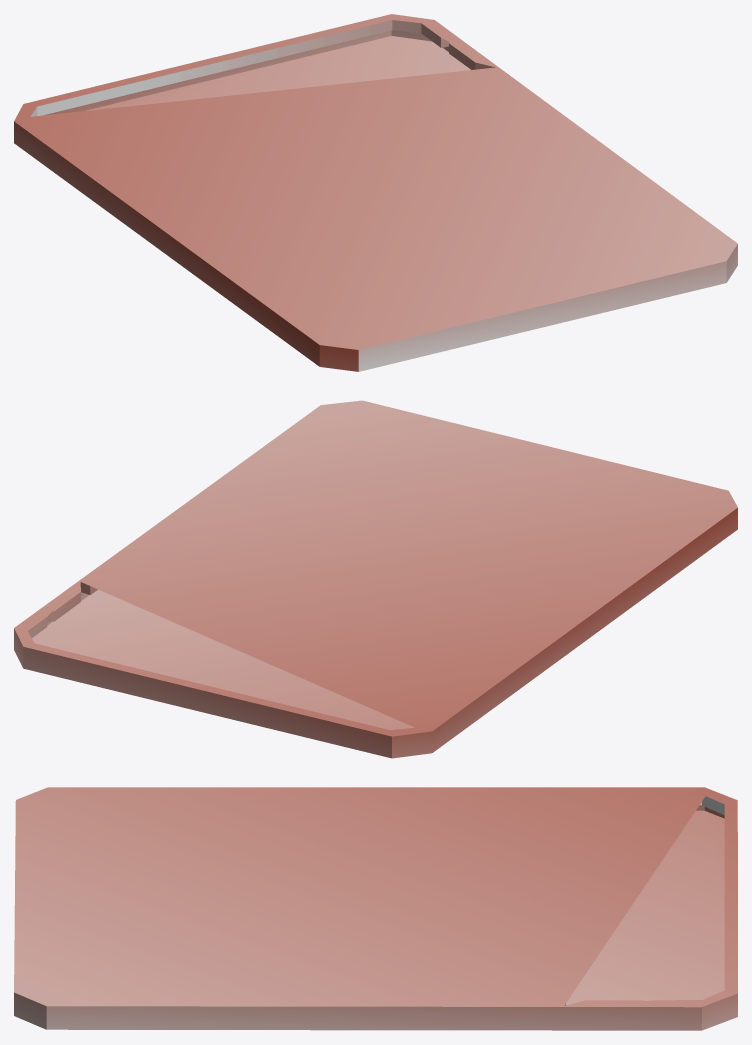
Rendered from Nur Rand.fbx.
The picture shows the model from 3 angles, top to bottom: view 1: azimuth 30°, elevation 25°; view 2: azimuth 150°, elevation 25°; view 3: azimuth 270°, elevation 25°; orthographic projection. The views are drawn at different scales.
Visible parts, largest first — view 1: Würfel; view 2: Würfel; view 3: Würfel.
Part boxes in pixels (box(x1,y1,x2,y2)): Würfel: box(14, 14, 737, 371); Würfel: box(14, 400, 737, 758); Würfel: box(14, 787, 737, 1030).
Size of the model in its own units: 112 by 5.6 by 156.
